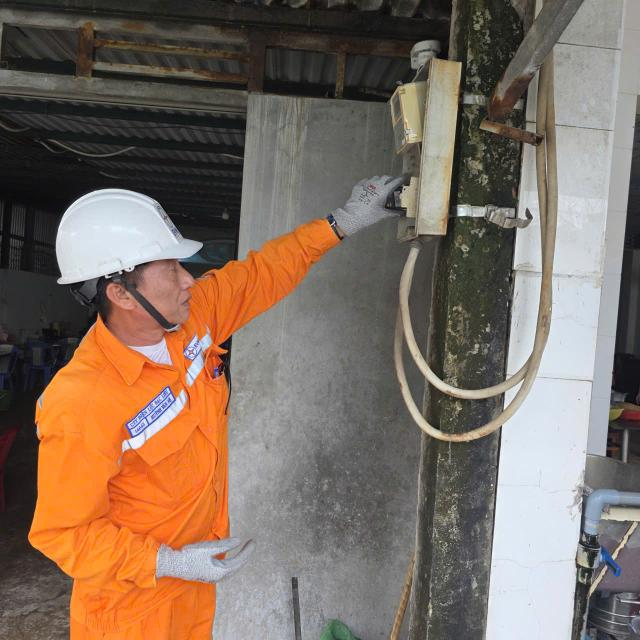gloves: (308, 147, 407, 238), (148, 529, 257, 588)
helmet: (40, 154, 184, 294)
